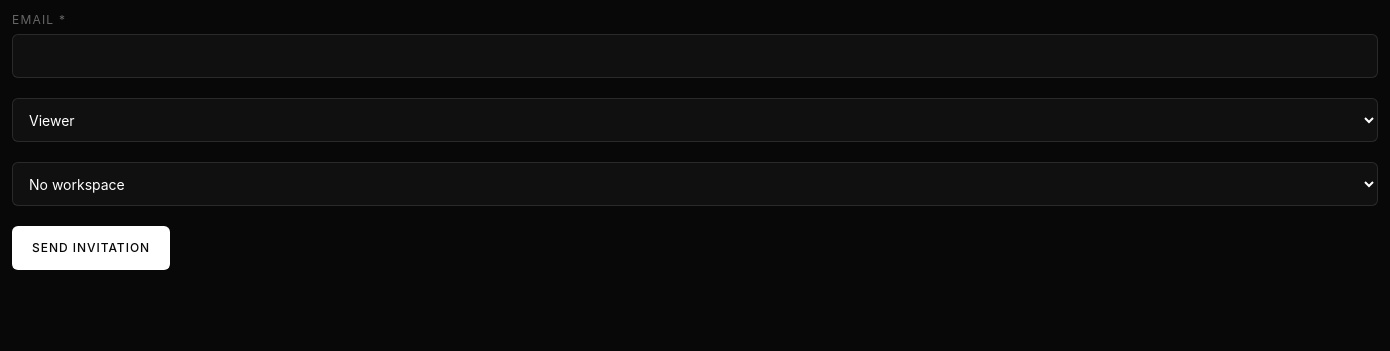
Test: CreateInvitationForm › only shows a workspace-role selector once a workspace has actually been chosen
Check: the dropdown labelled "workspace role" is not shown
Select "Marketing" in the dropdown named "workspace (optional)" at [695, 184], box [12,162,1378,206]
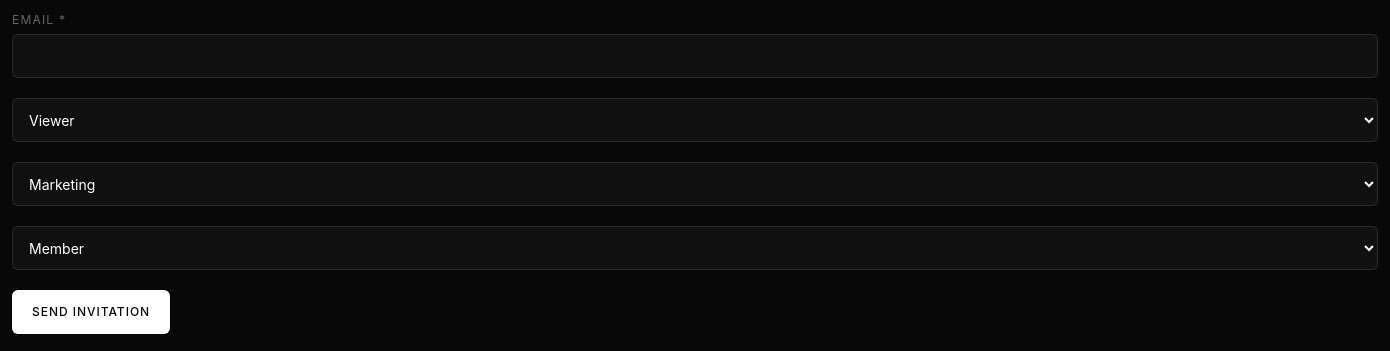
Check: the dropdown named "workspace role" is shown, box [12,226,1378,270]
